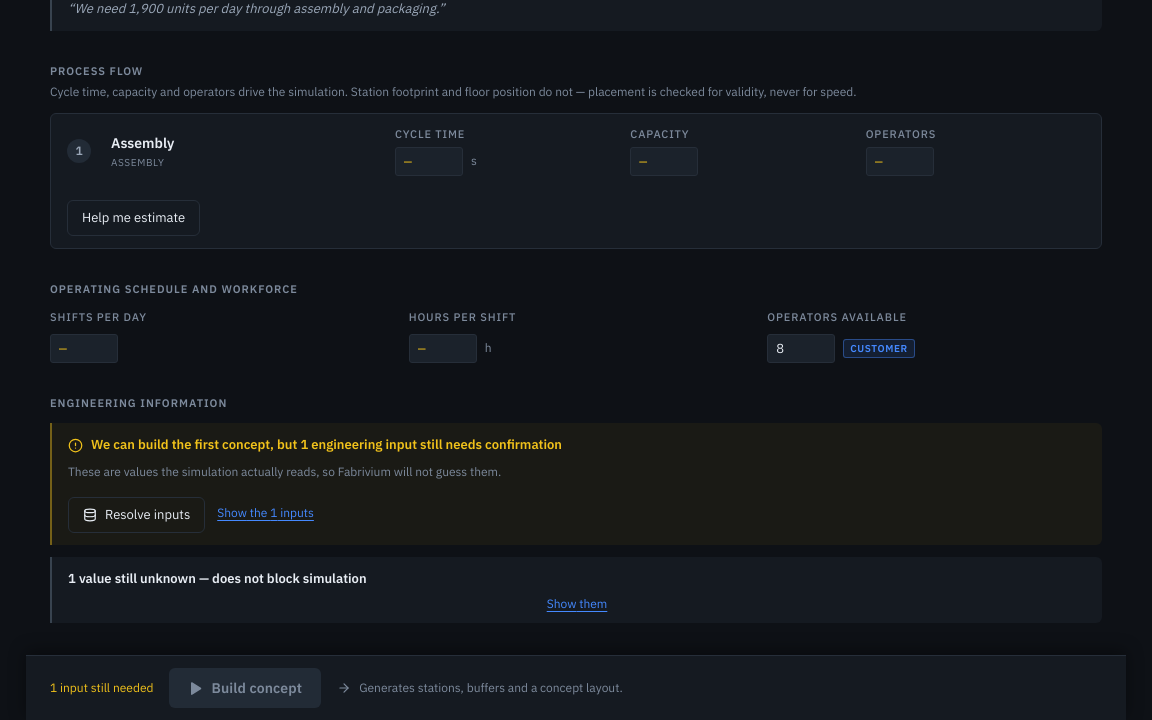
Test: ConceptBuilder — information gaps › separates optional gaps from blocking ones and says so
The width and height of the screenshot is (1152, 720).
(page scrolled)
expect the element with test id "gap-optional" shows "does not block simulation": met, box [112, 570, 367, 587]
Click the button with test id "gap-optional-toggle": coordinates (577, 604) [68, 596, 1086, 611]
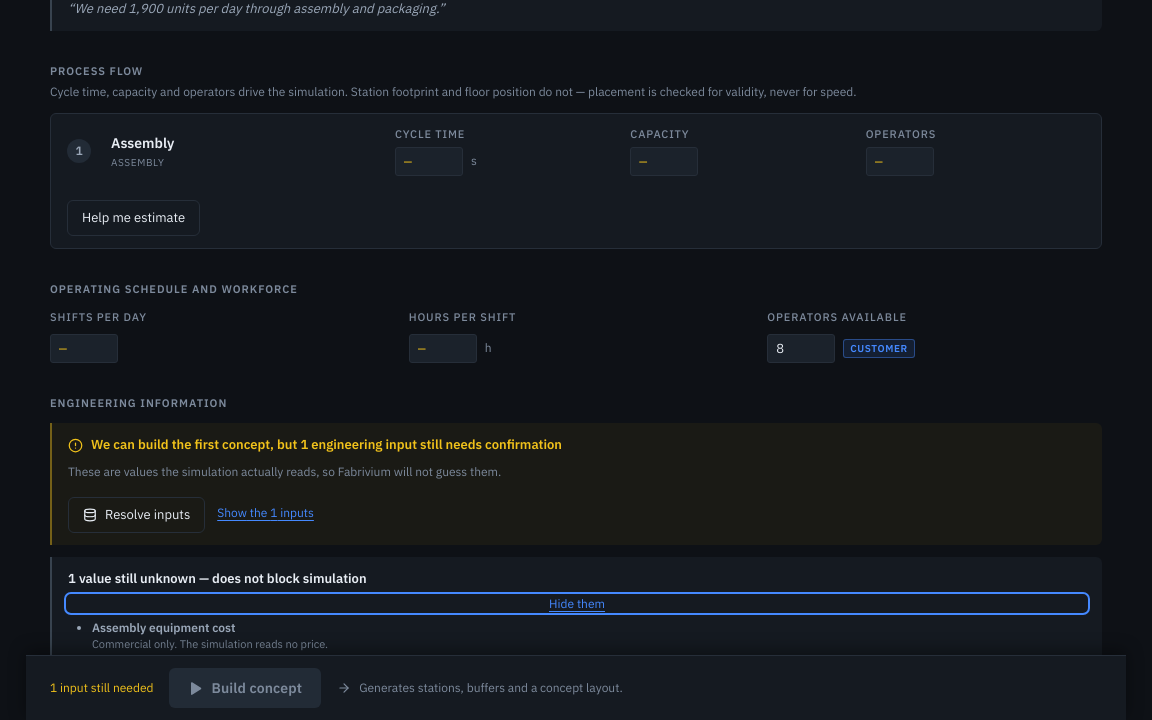
expect the list with test id "gap-optional-list" shows "Assembly equipment cost": met, box [92, 620, 236, 635]
